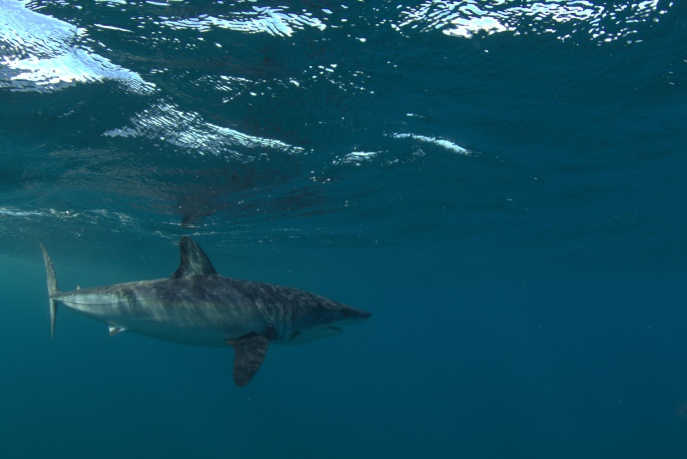Mako: (28, 226, 380, 393)
